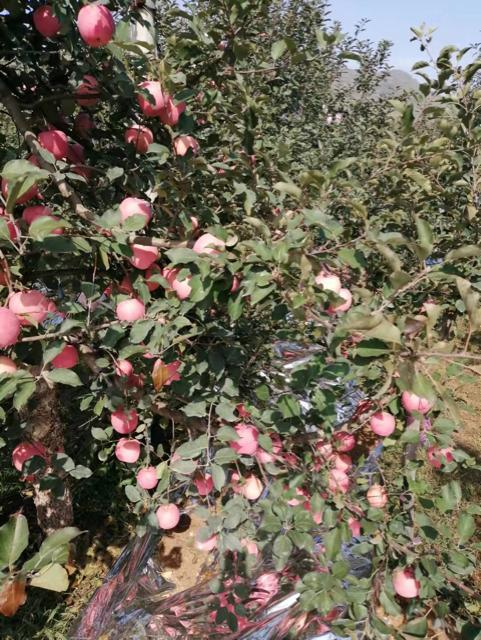apple: (76, 4, 117, 48), (10, 289, 48, 325), (391, 564, 420, 598), (1, 305, 22, 349), (124, 124, 152, 154), (110, 403, 138, 433), (115, 297, 144, 322), (115, 437, 141, 464), (156, 502, 181, 530), (369, 411, 395, 436), (136, 466, 159, 490)
